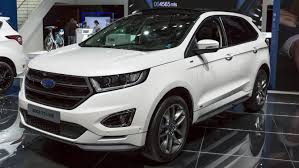car: (18, 8, 272, 161), (1, 16, 28, 92)
